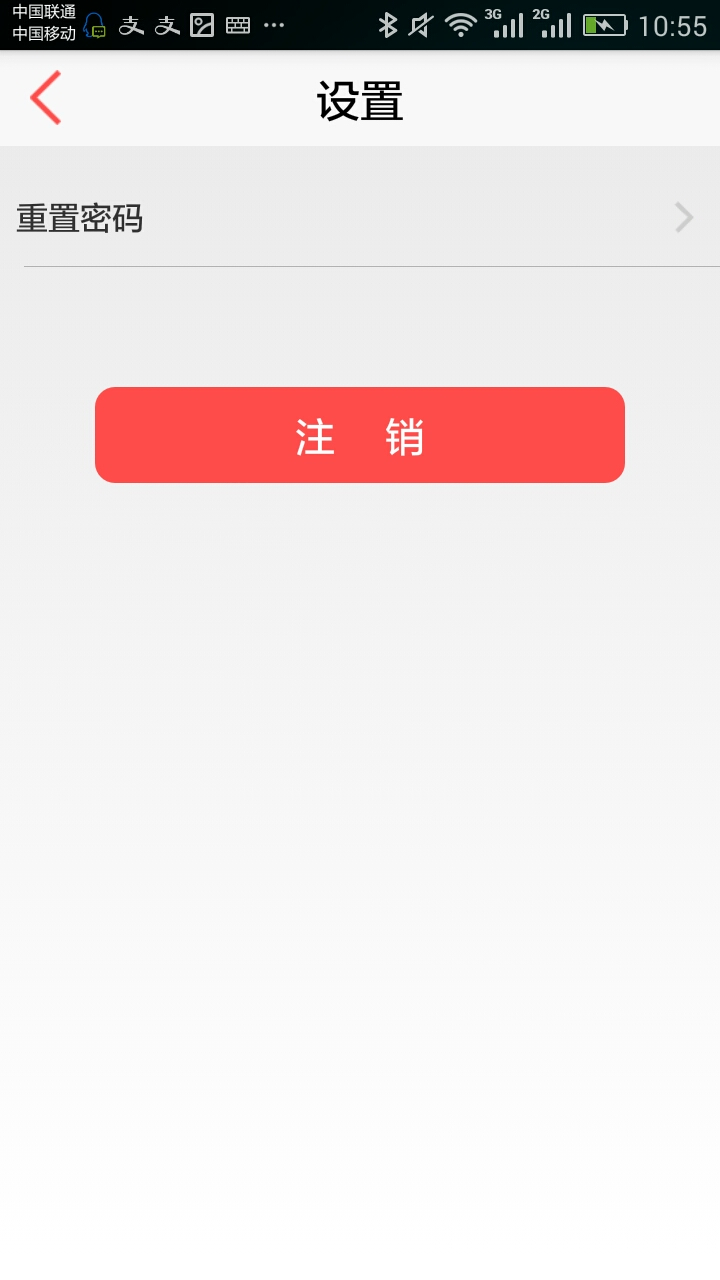button: (89, 377, 632, 498)
textview: (5, 163, 720, 282)
